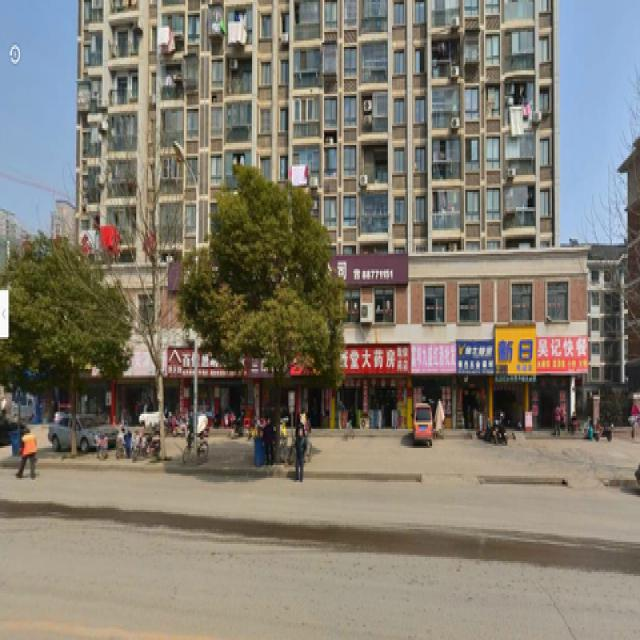cinn: (181, 166, 340, 480)
